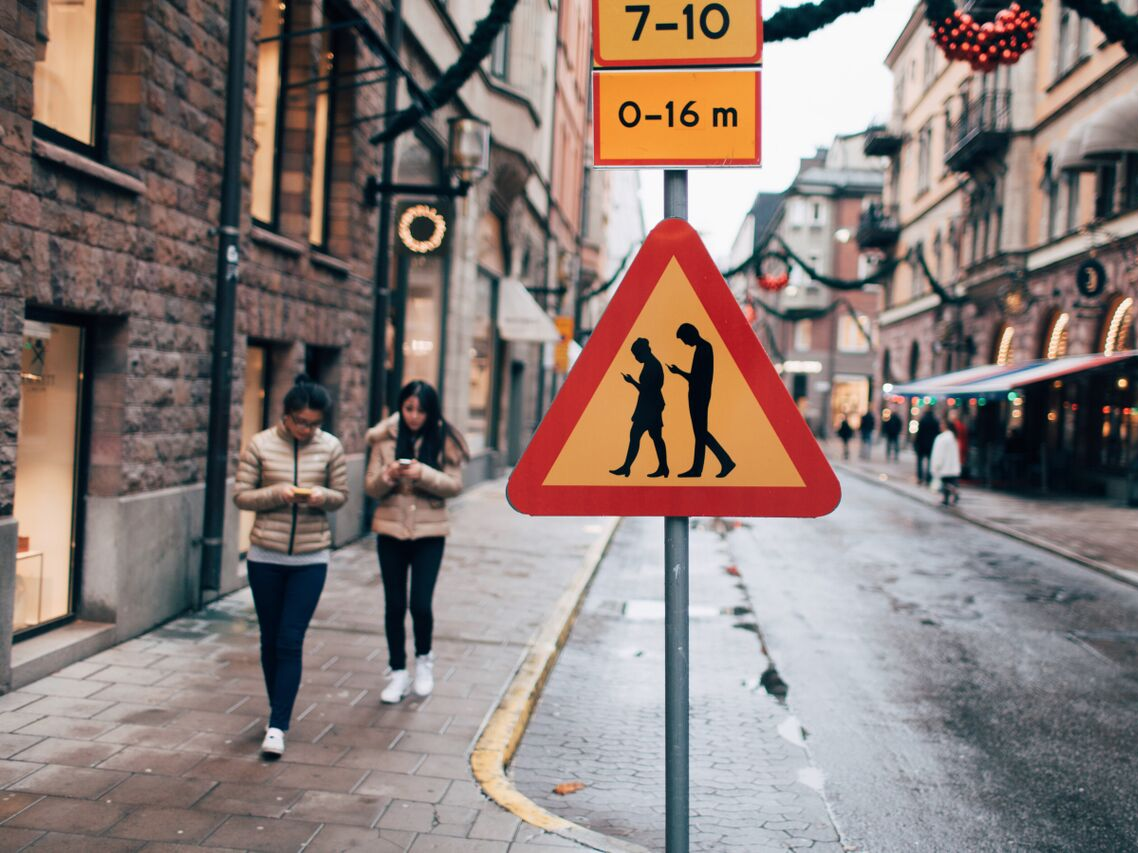pedestrian: (219, 370, 338, 764), (350, 371, 465, 717)
